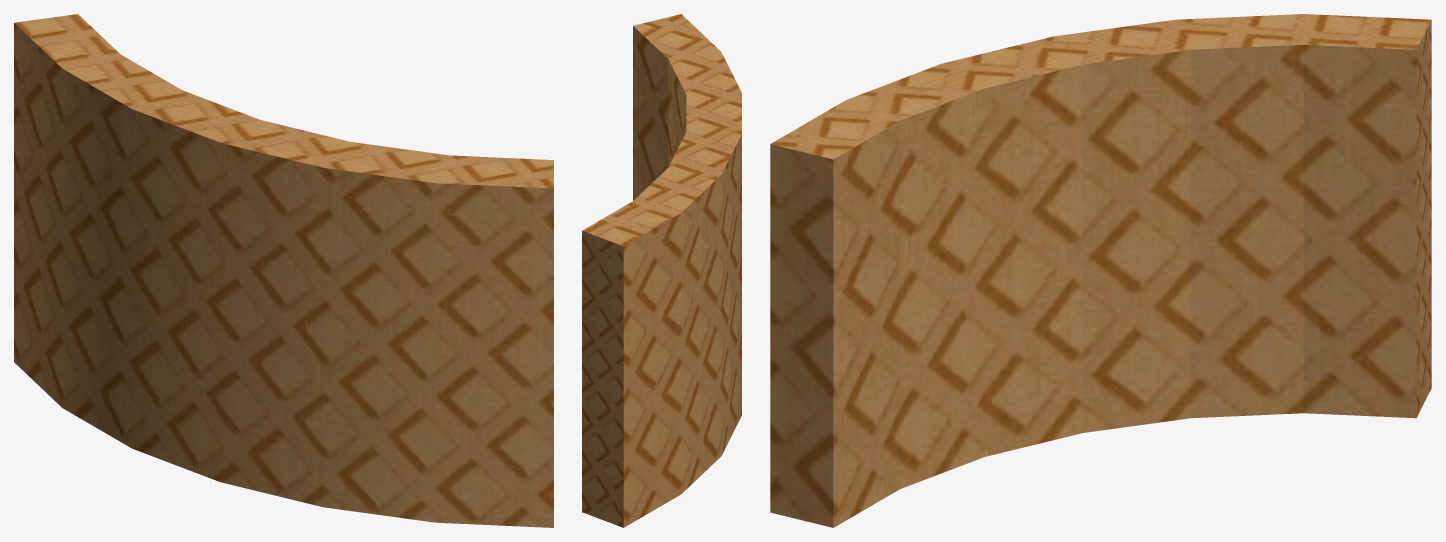
The model's file is doura2.fbx.
The picture shows the model from 3 angles, left to right: view 1: azimuth 30°, elevation 25°; view 2: azimuth 150°, elevation 25°; view 3: azimuth 270°, elevation 25°; orthographic projection. The views are drawn at different scales.
Visible parts, largest first — view 1: pCylinder4; view 2: pCylinder4; view 3: pCylinder4.
Part boxes in pixels (x1,y1,x2,y2): pCylinder4: (14,14,553,527); pCylinder4: (582,14,741,527); pCylinder4: (770,14,1431,527).
Size of the model in its own units: 0.5517 by 0.6512 by 1.06.
1 material, 1 textured.
